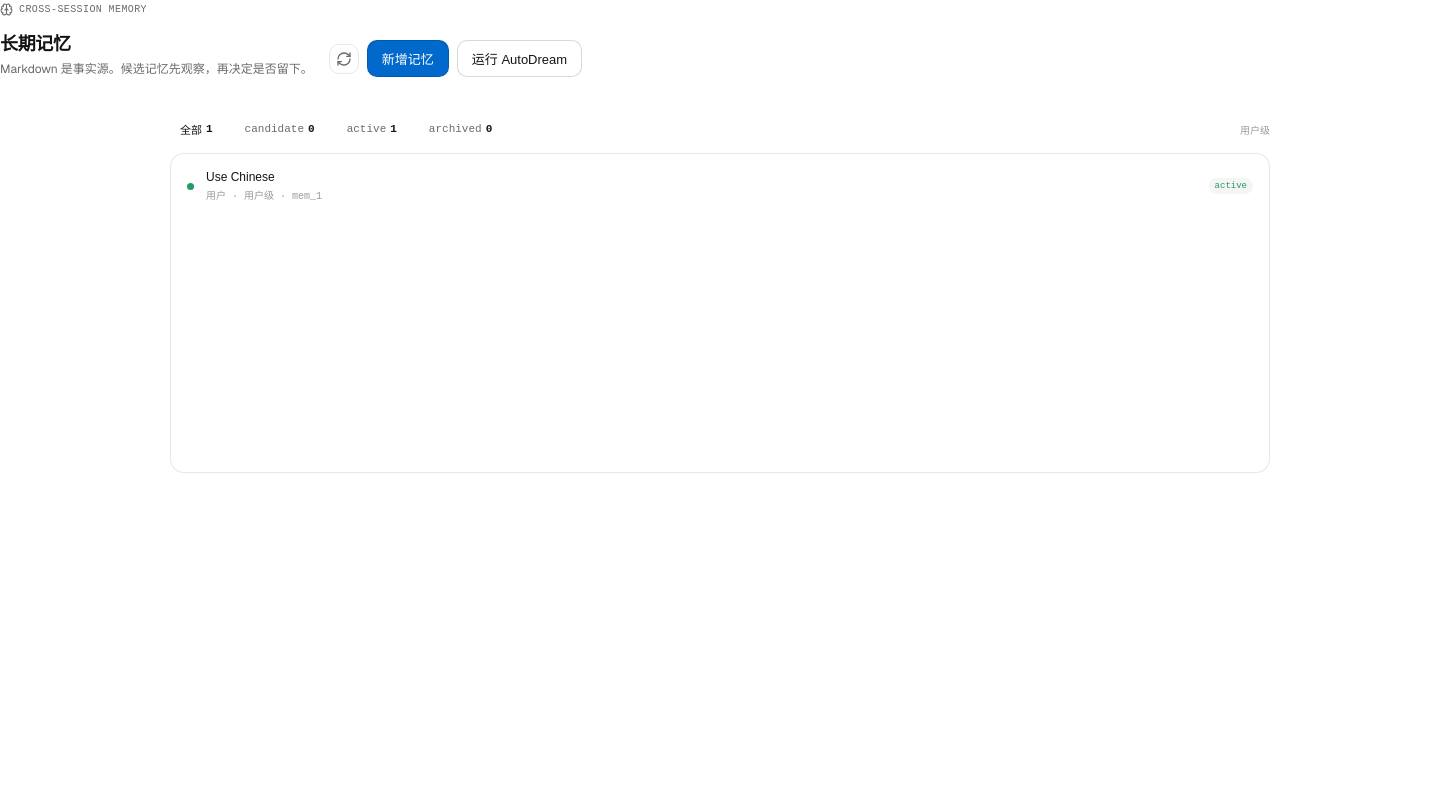
Memory management view › closes the open memory detail after confirming forget
Click the button "Use Chinese 用户 · 用户级 · mem_1 active". click: (240, 177)
box: 171,154 -> 1269,218
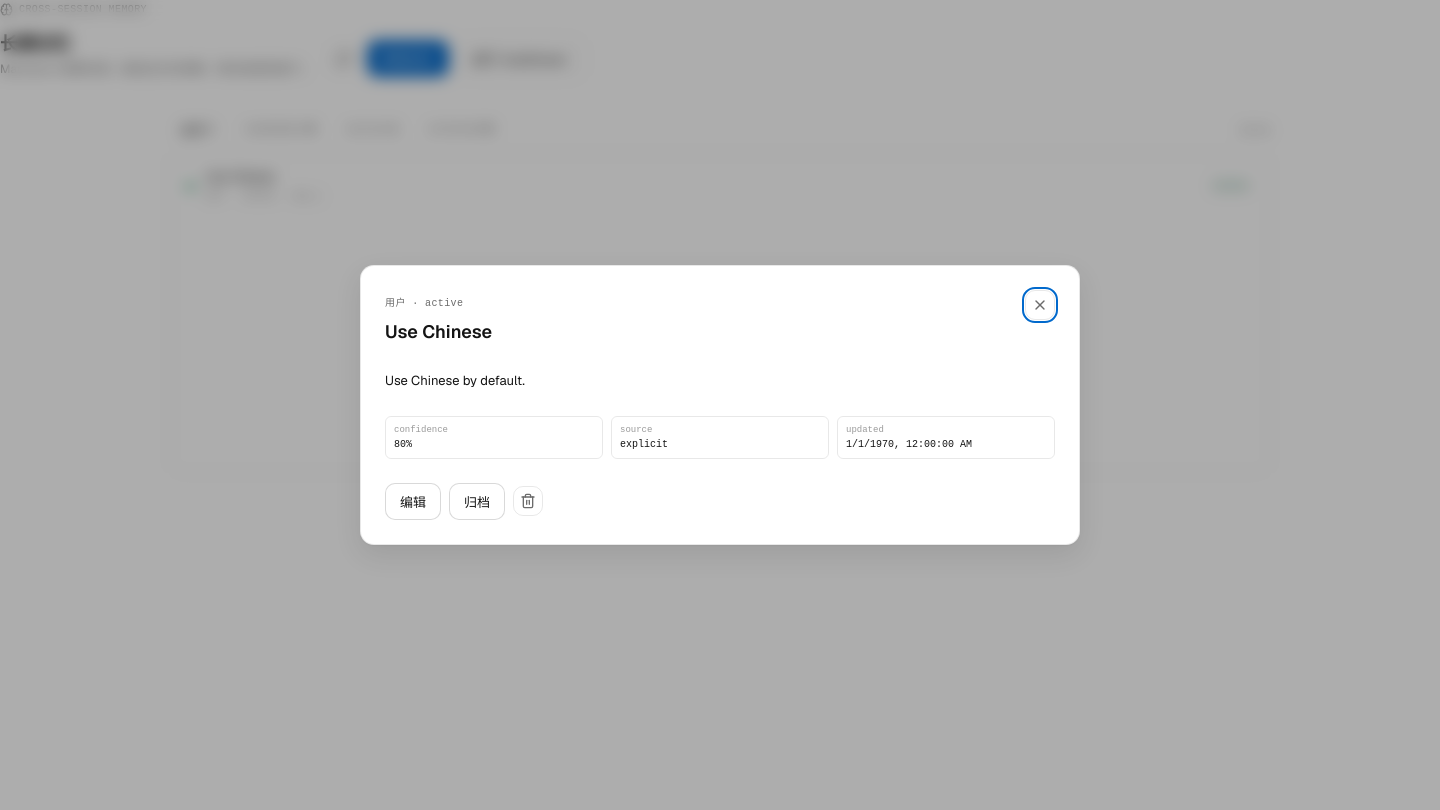
Check: the dialog named "记忆详情" is shown, box 360,265 -> 1080,545
Click the button named "遗忘". click: (528, 501)
box: 513,486 -> 543,516
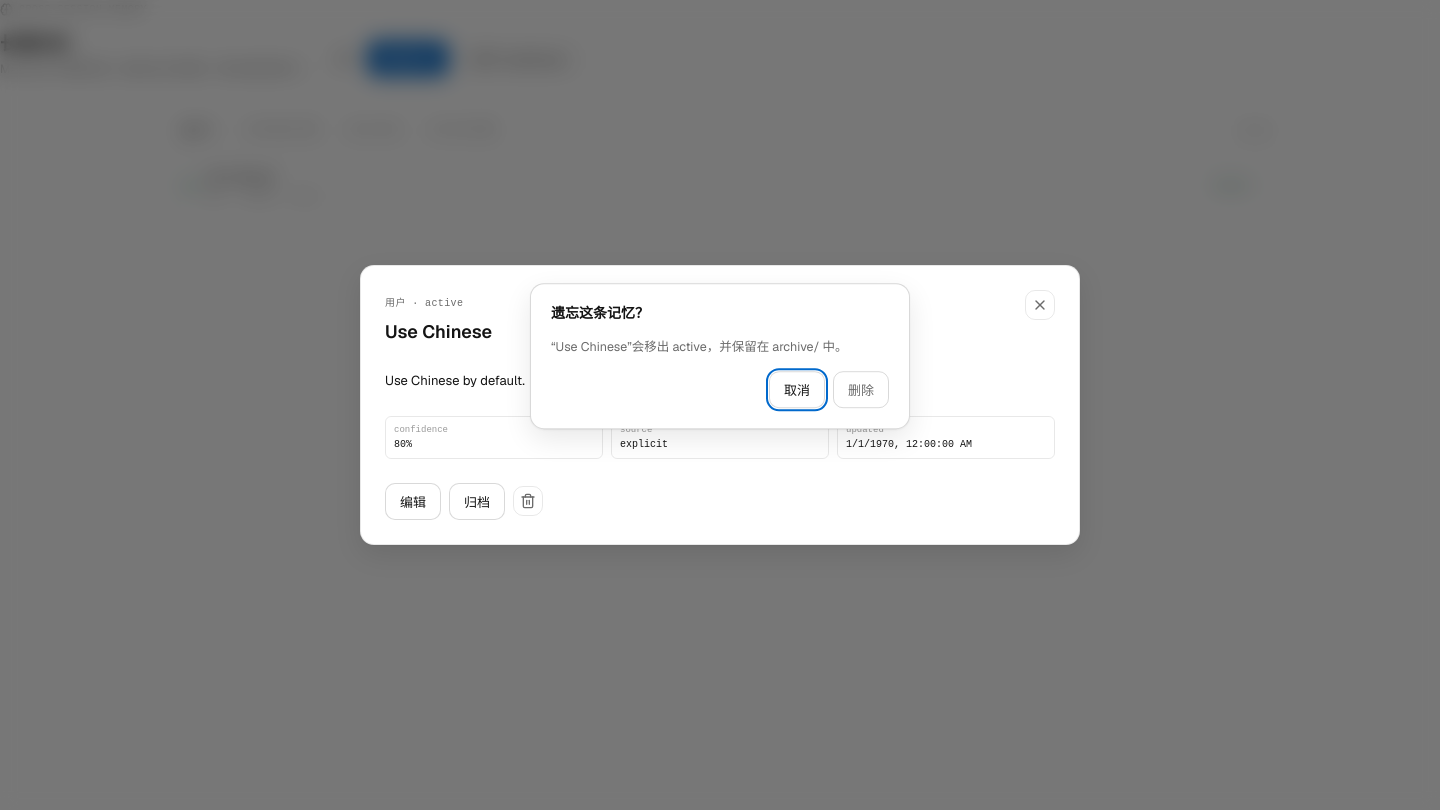
Click the button "删除". click: (861, 390)
box: 833,371 -> 889,408
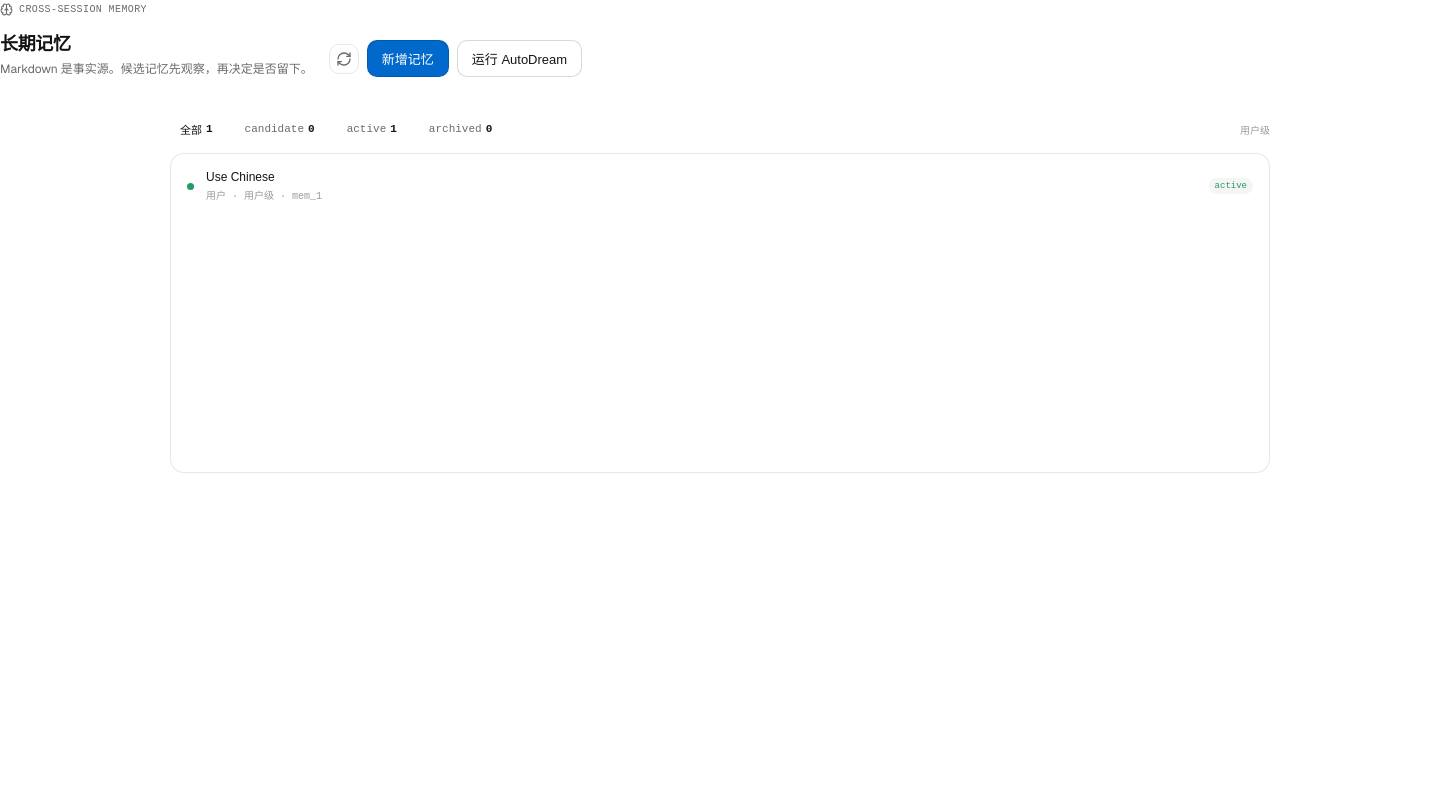
Check: the dialog "记忆详情" is gone
